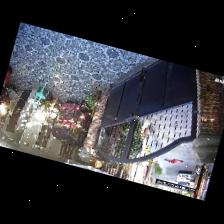person: (164, 158, 182, 162)
